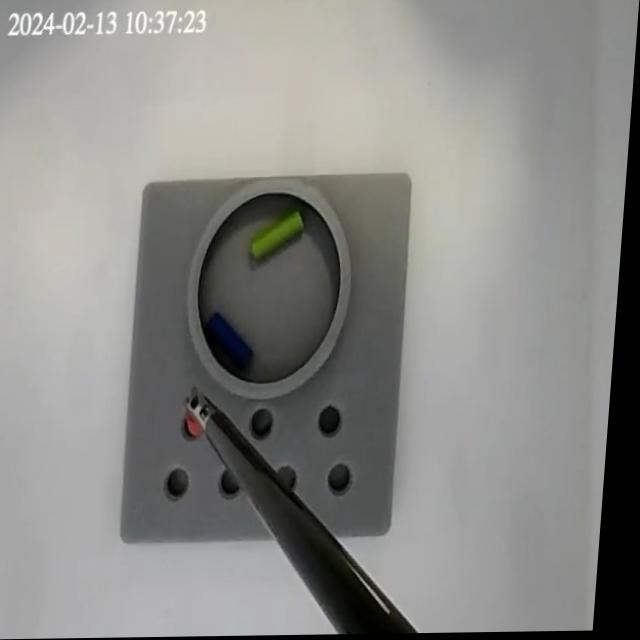EmptyHole: (166, 461, 205, 505), (332, 457, 364, 501), (320, 401, 352, 443), (223, 465, 257, 500), (278, 461, 308, 498), (186, 408, 216, 444), (254, 407, 284, 443)
